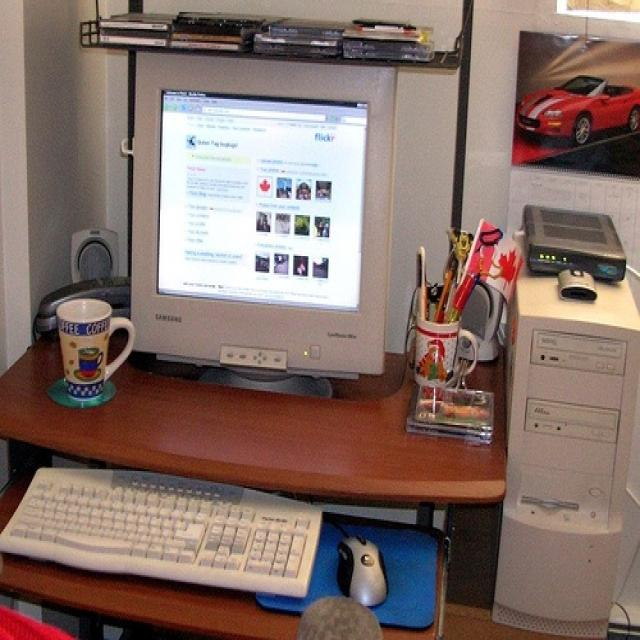tvmonitor: (130, 50, 397, 398)
